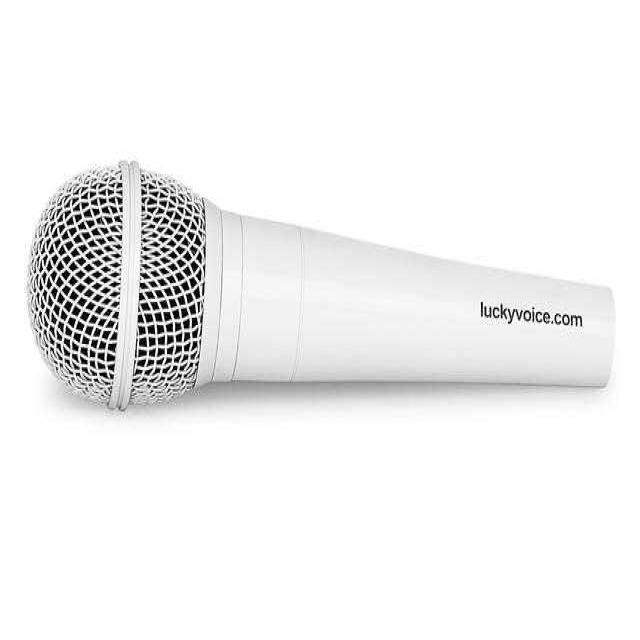microphone: (30, 165, 605, 405)
